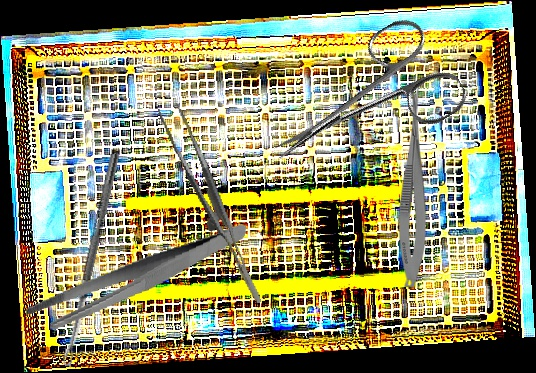Dressing Forceps: (16, 223, 258, 333)
Iris Scissors: (249, 8, 473, 203)
Micro Scissor: (398, 82, 427, 287)
Surgical Spoon: (60, 149, 121, 367)
Tissue Forceps: (157, 96, 262, 315)
